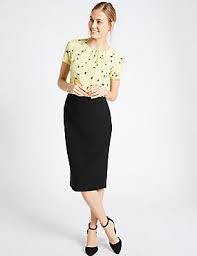F_tailored skirt: (59, 88, 116, 198)
